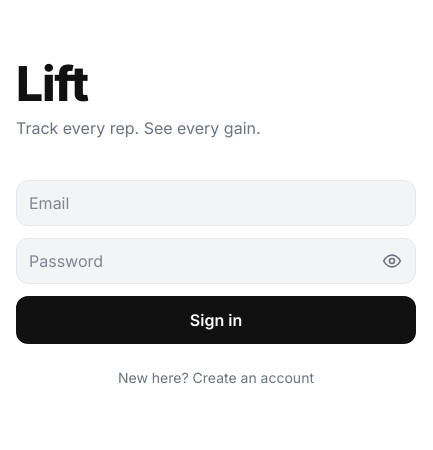
Scenario: LoginPage › create account blocks mismatched passwords
This screenshot has width=433, height=450.
Click the button "New here? Create an account".
click(216, 378)  # box x1=16 y1=368 x2=416 y2=388
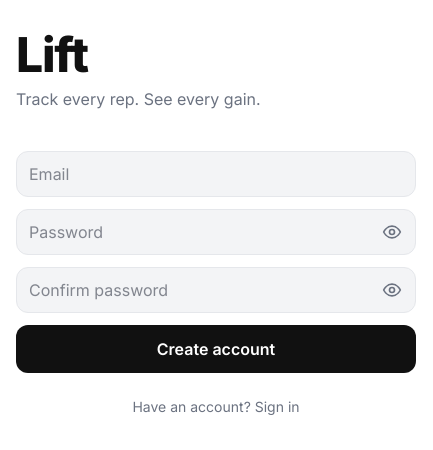
Type "a@b.co" into the field with placeholder "Email".
click(216, 174); type("a@b.co")  # box x1=16 y1=151 x2=416 y2=197
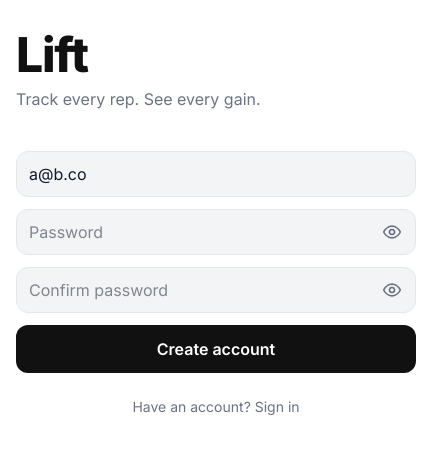
Type "secret1" into the password field with placeholder "Password".
click(216, 232); type("secret1")  # box x1=16 y1=209 x2=416 y2=255
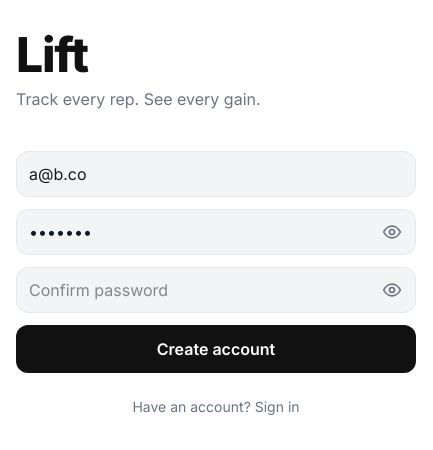
Type "secret2" into the password field with placeholder "Confirm password".
click(216, 290); type("secret2")  # box x1=16 y1=267 x2=416 y2=313
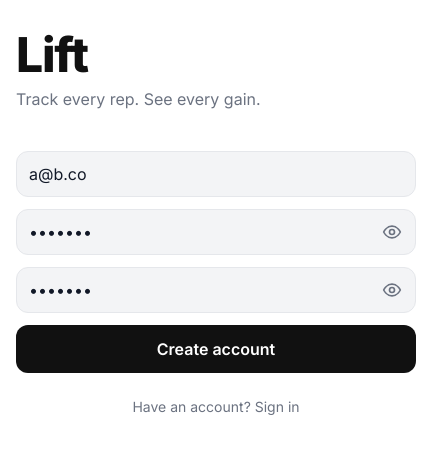
Click the button "Create account".
click(216, 349)  # box x1=16 y1=325 x2=416 y2=373
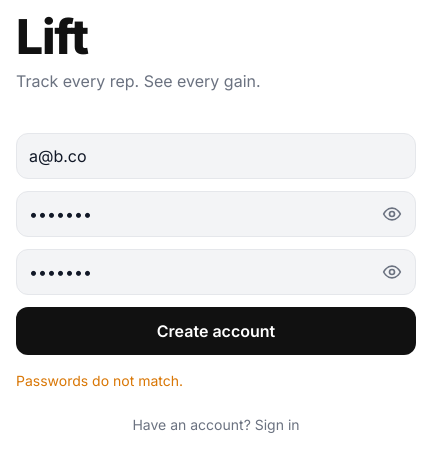
Expected: the text "Passwords do not match." is shown, x1=16 y1=372 x2=183 y2=389
